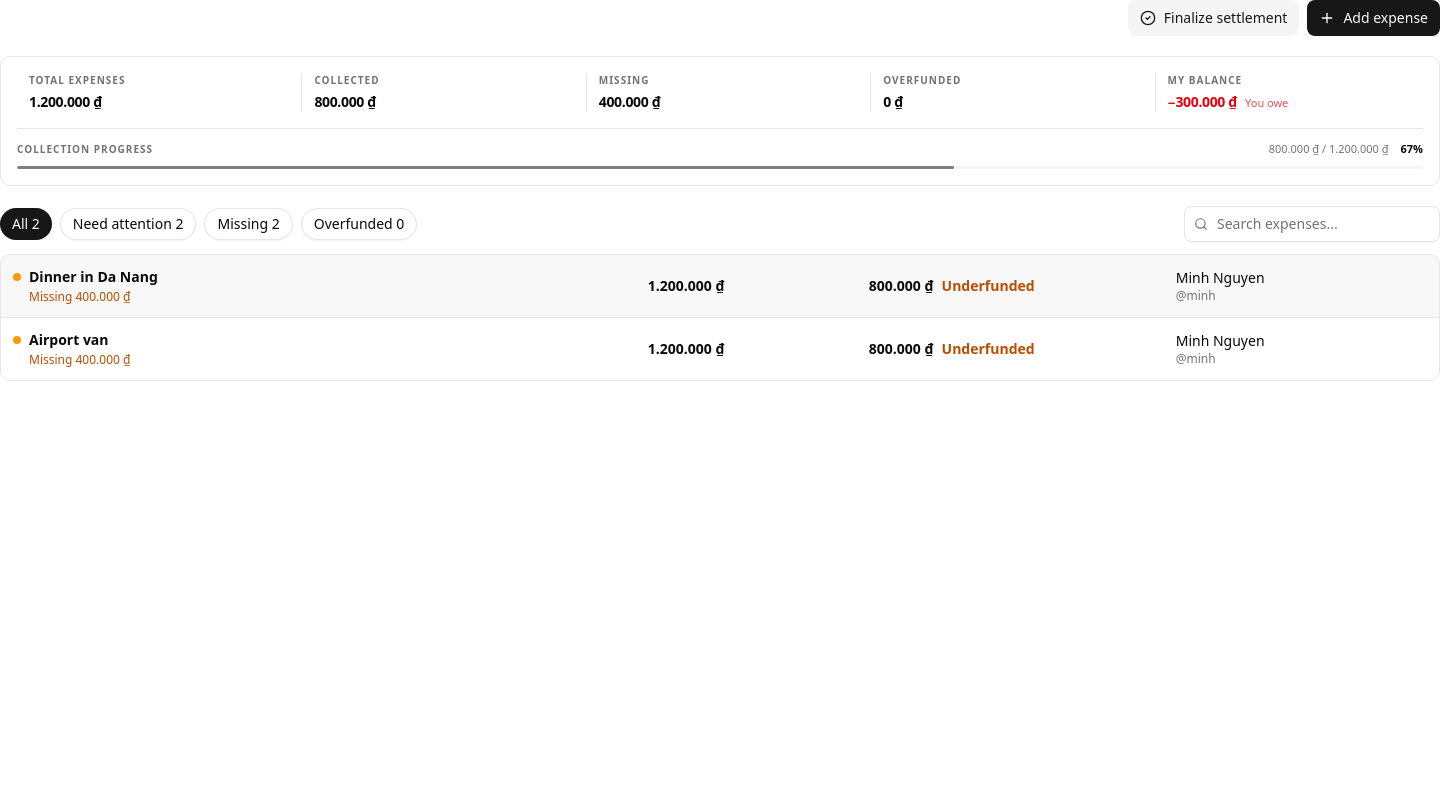
Test: ExpensesTab › does not reload stale contribution detail after selecting another expense
Click the button "Dinner in Da Nang" at {"x": 720, "y": 286}, box [1,254,1439,318]
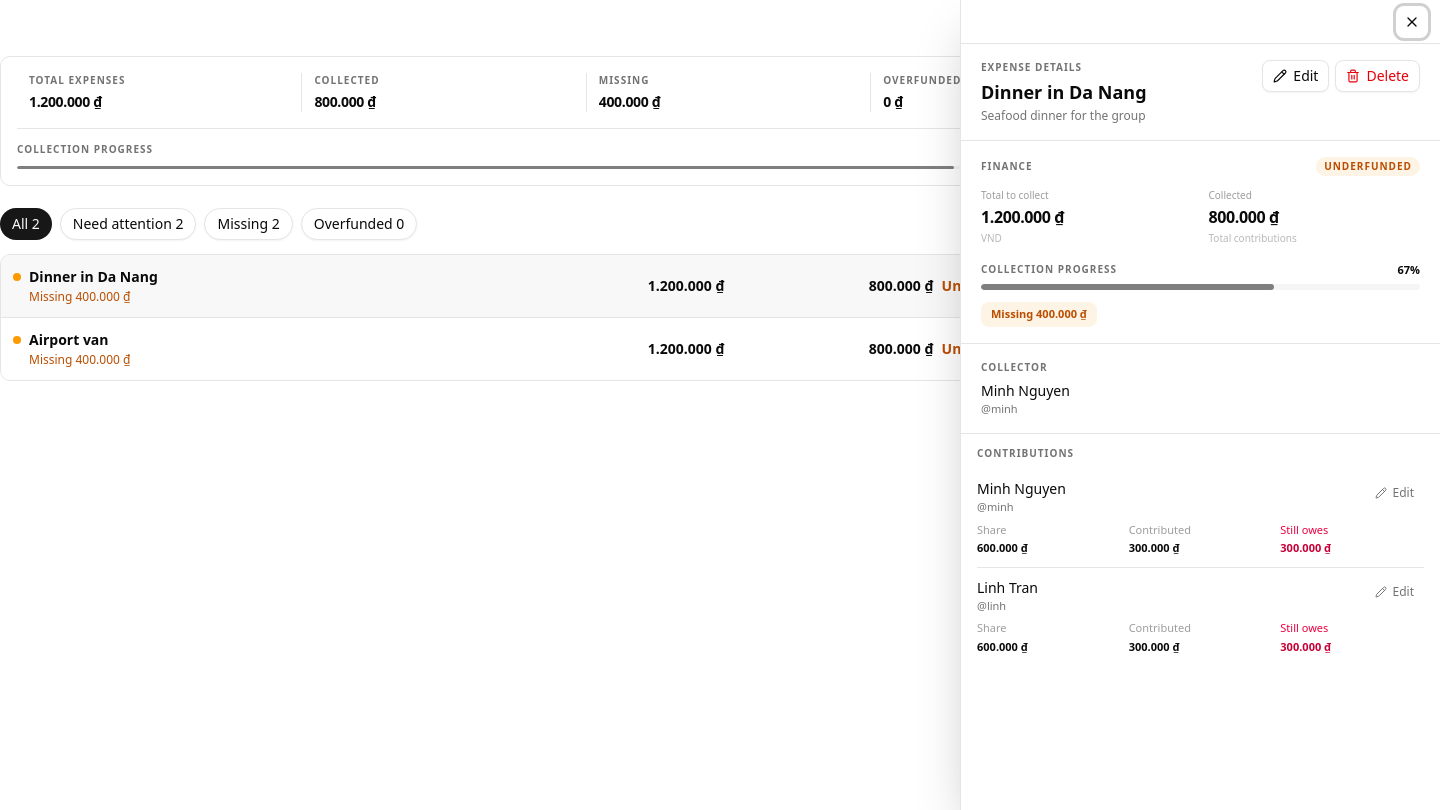
Expected: the text "Linh Tran" is shown, [977,578,1038,598]
Click the button with aria-label "Edit contribution for Linh Tran" at {"x": 1394, "y": 592}, box [1364,578,1424,606]
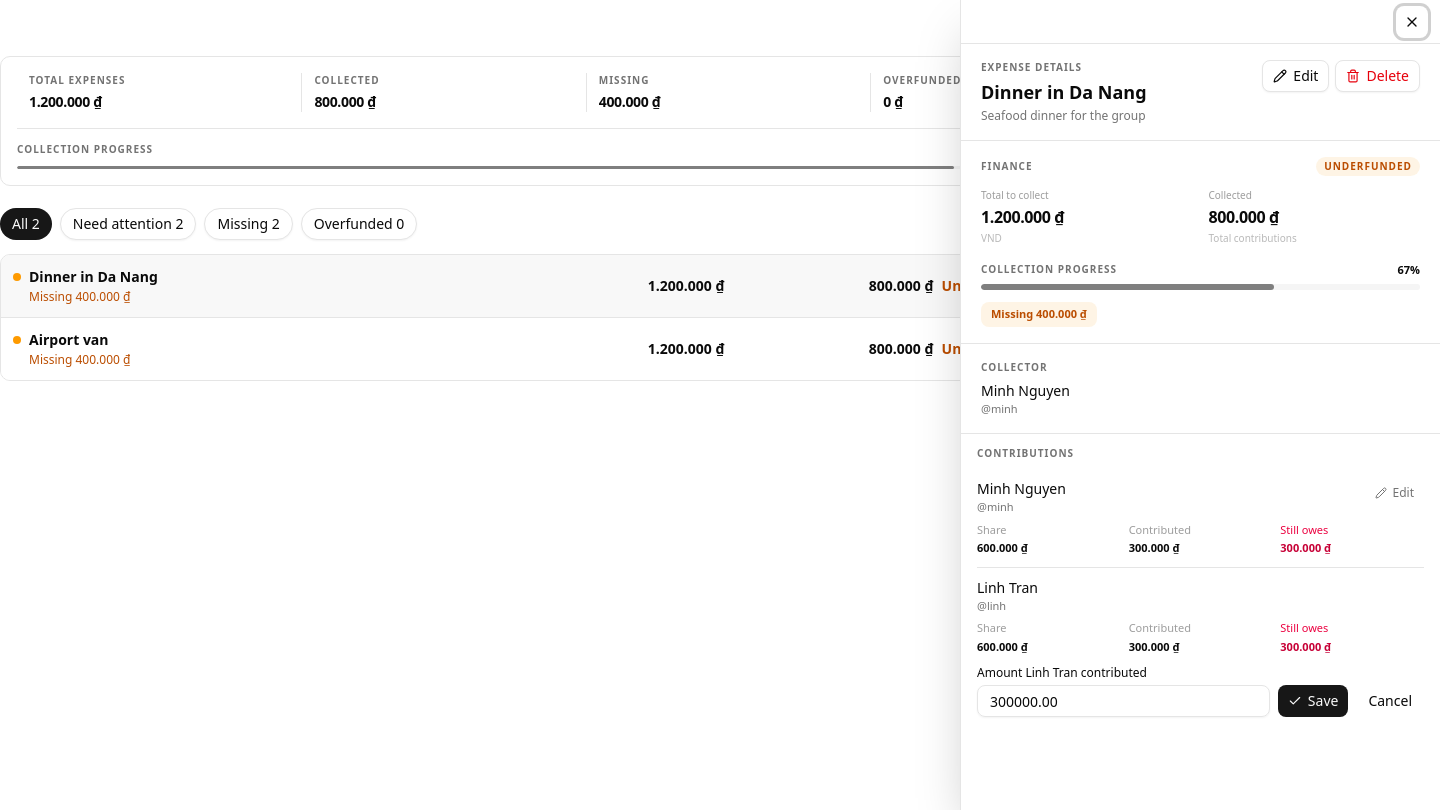
Replace the text in the field labelled "Amount Linh Tran contributed" with "1.500.000" at {"x": 1123, "y": 701}, box [977,685,1270,717]
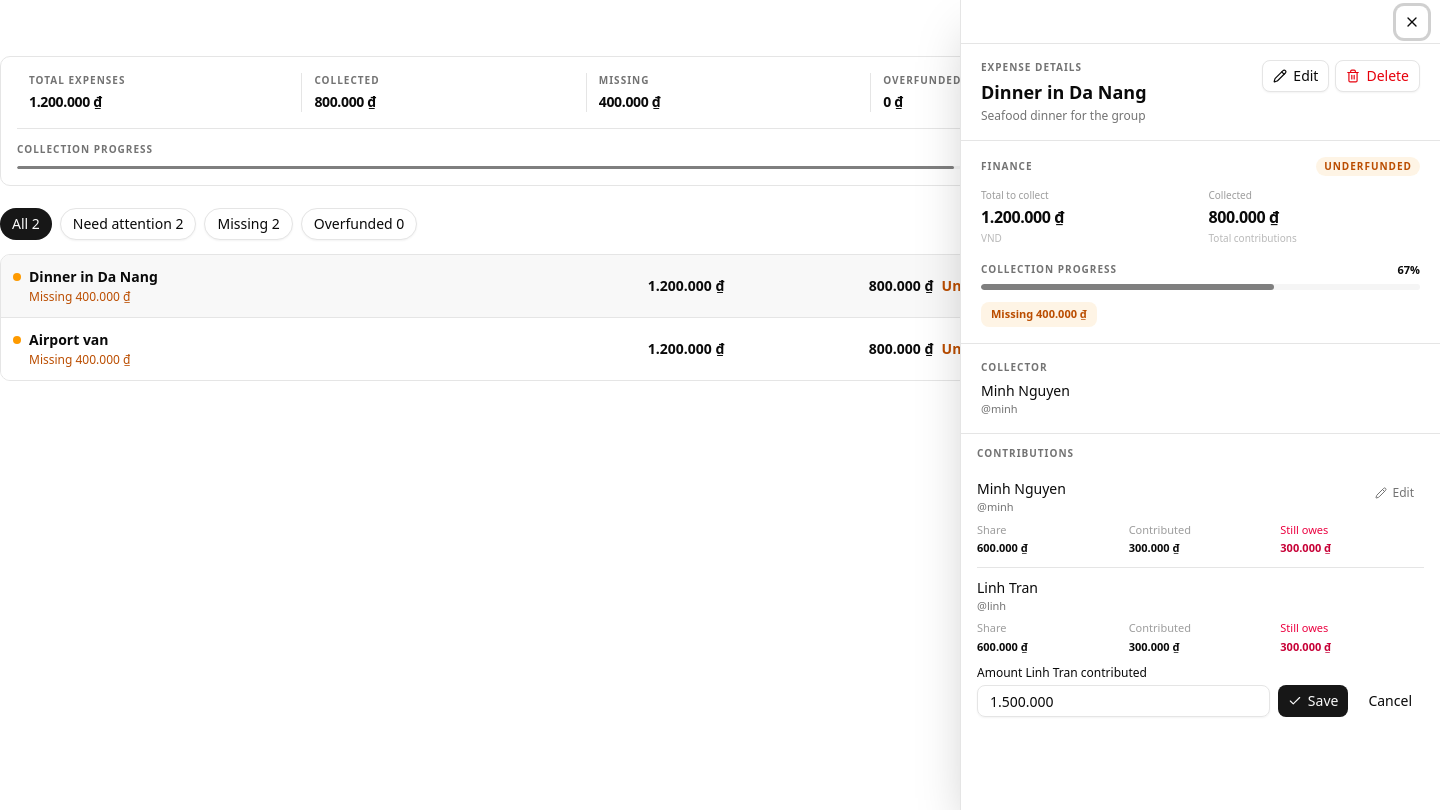
Click the button with aria-label "Save contribution for Linh Tran" at {"x": 1313, "y": 701}, box [1278,685,1348,717]
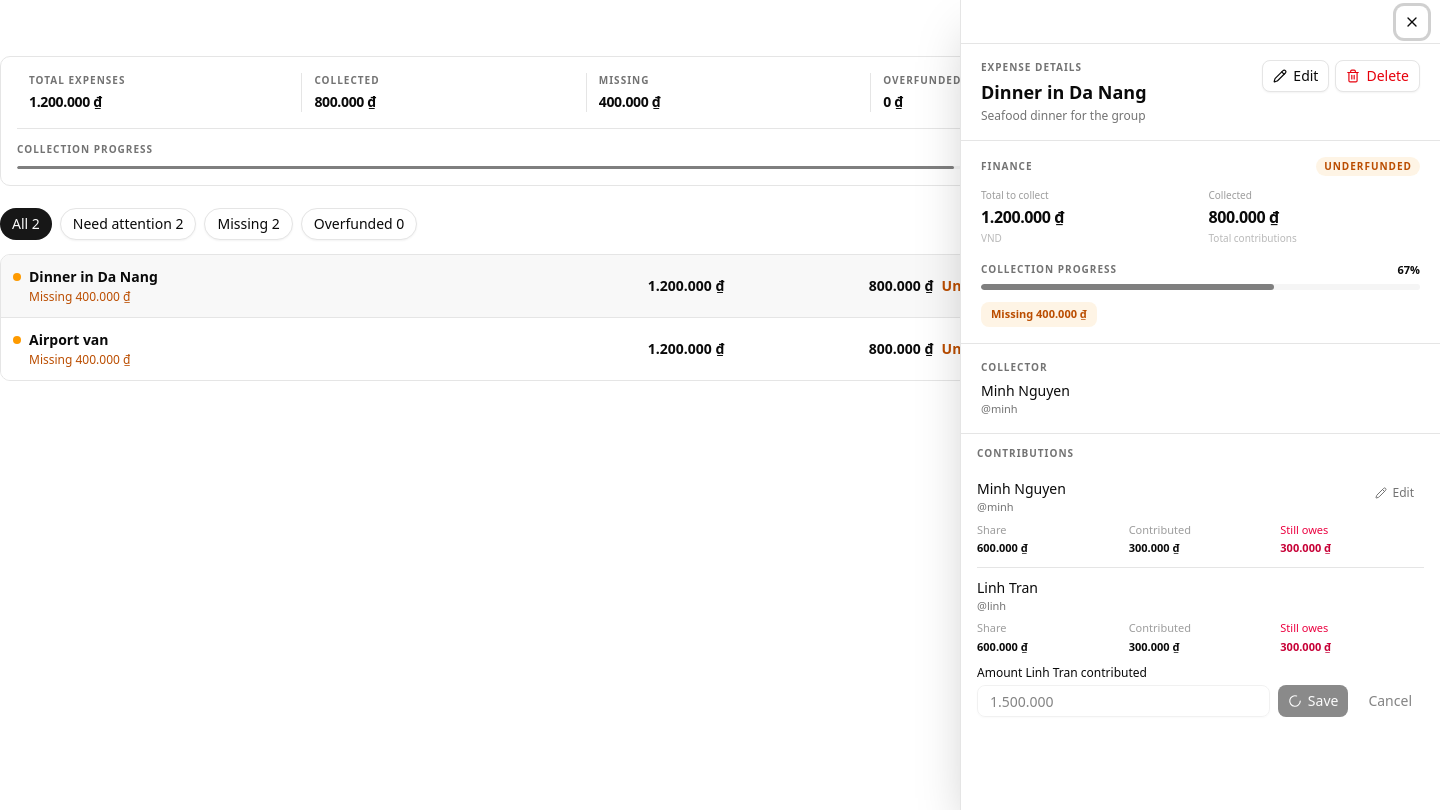
Click the button with aria-label "Open Airport van" at {"x": 720, "y": 348}, box [1,318,1439,380]
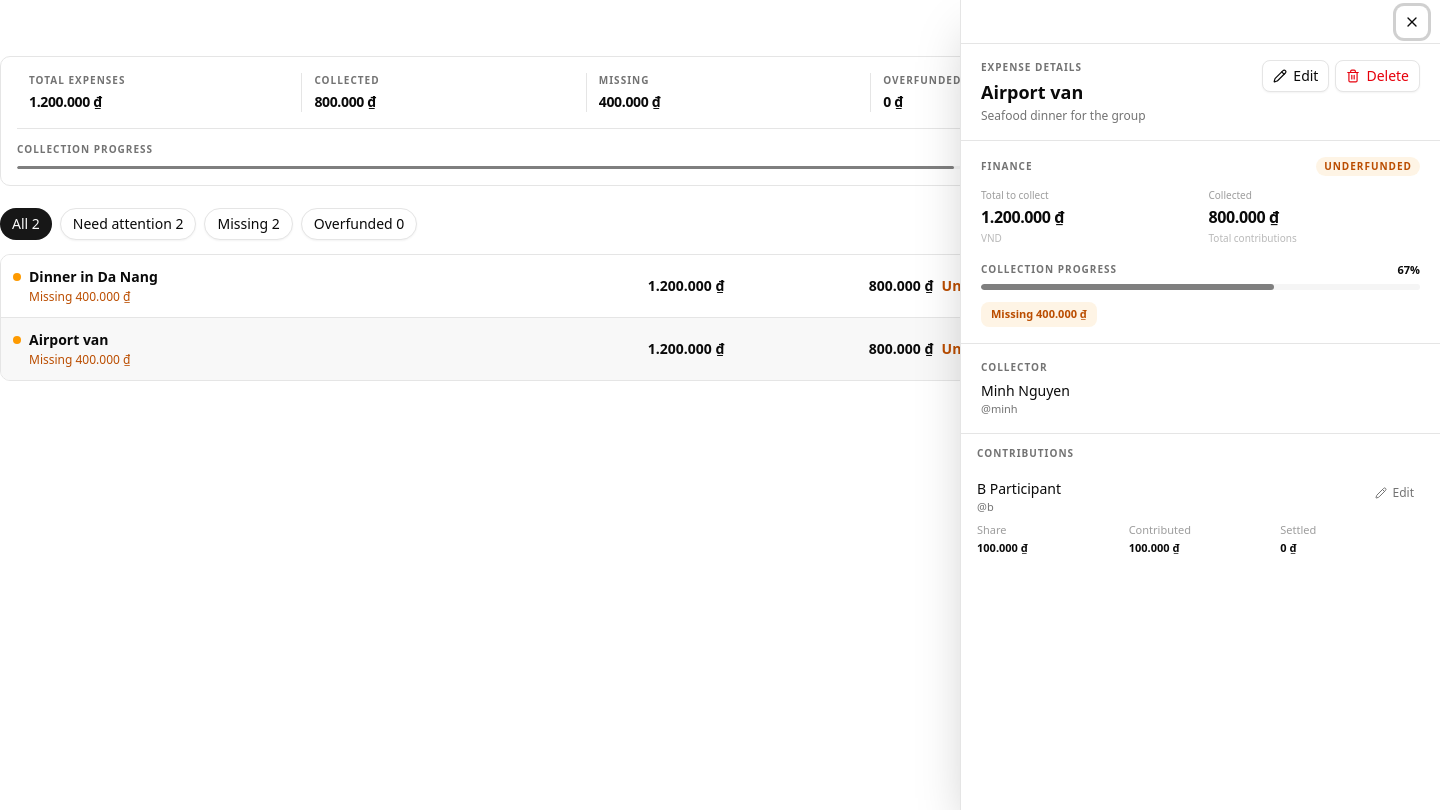
Expected: the text "B Participant" is shown, [977,479,1061,499]
